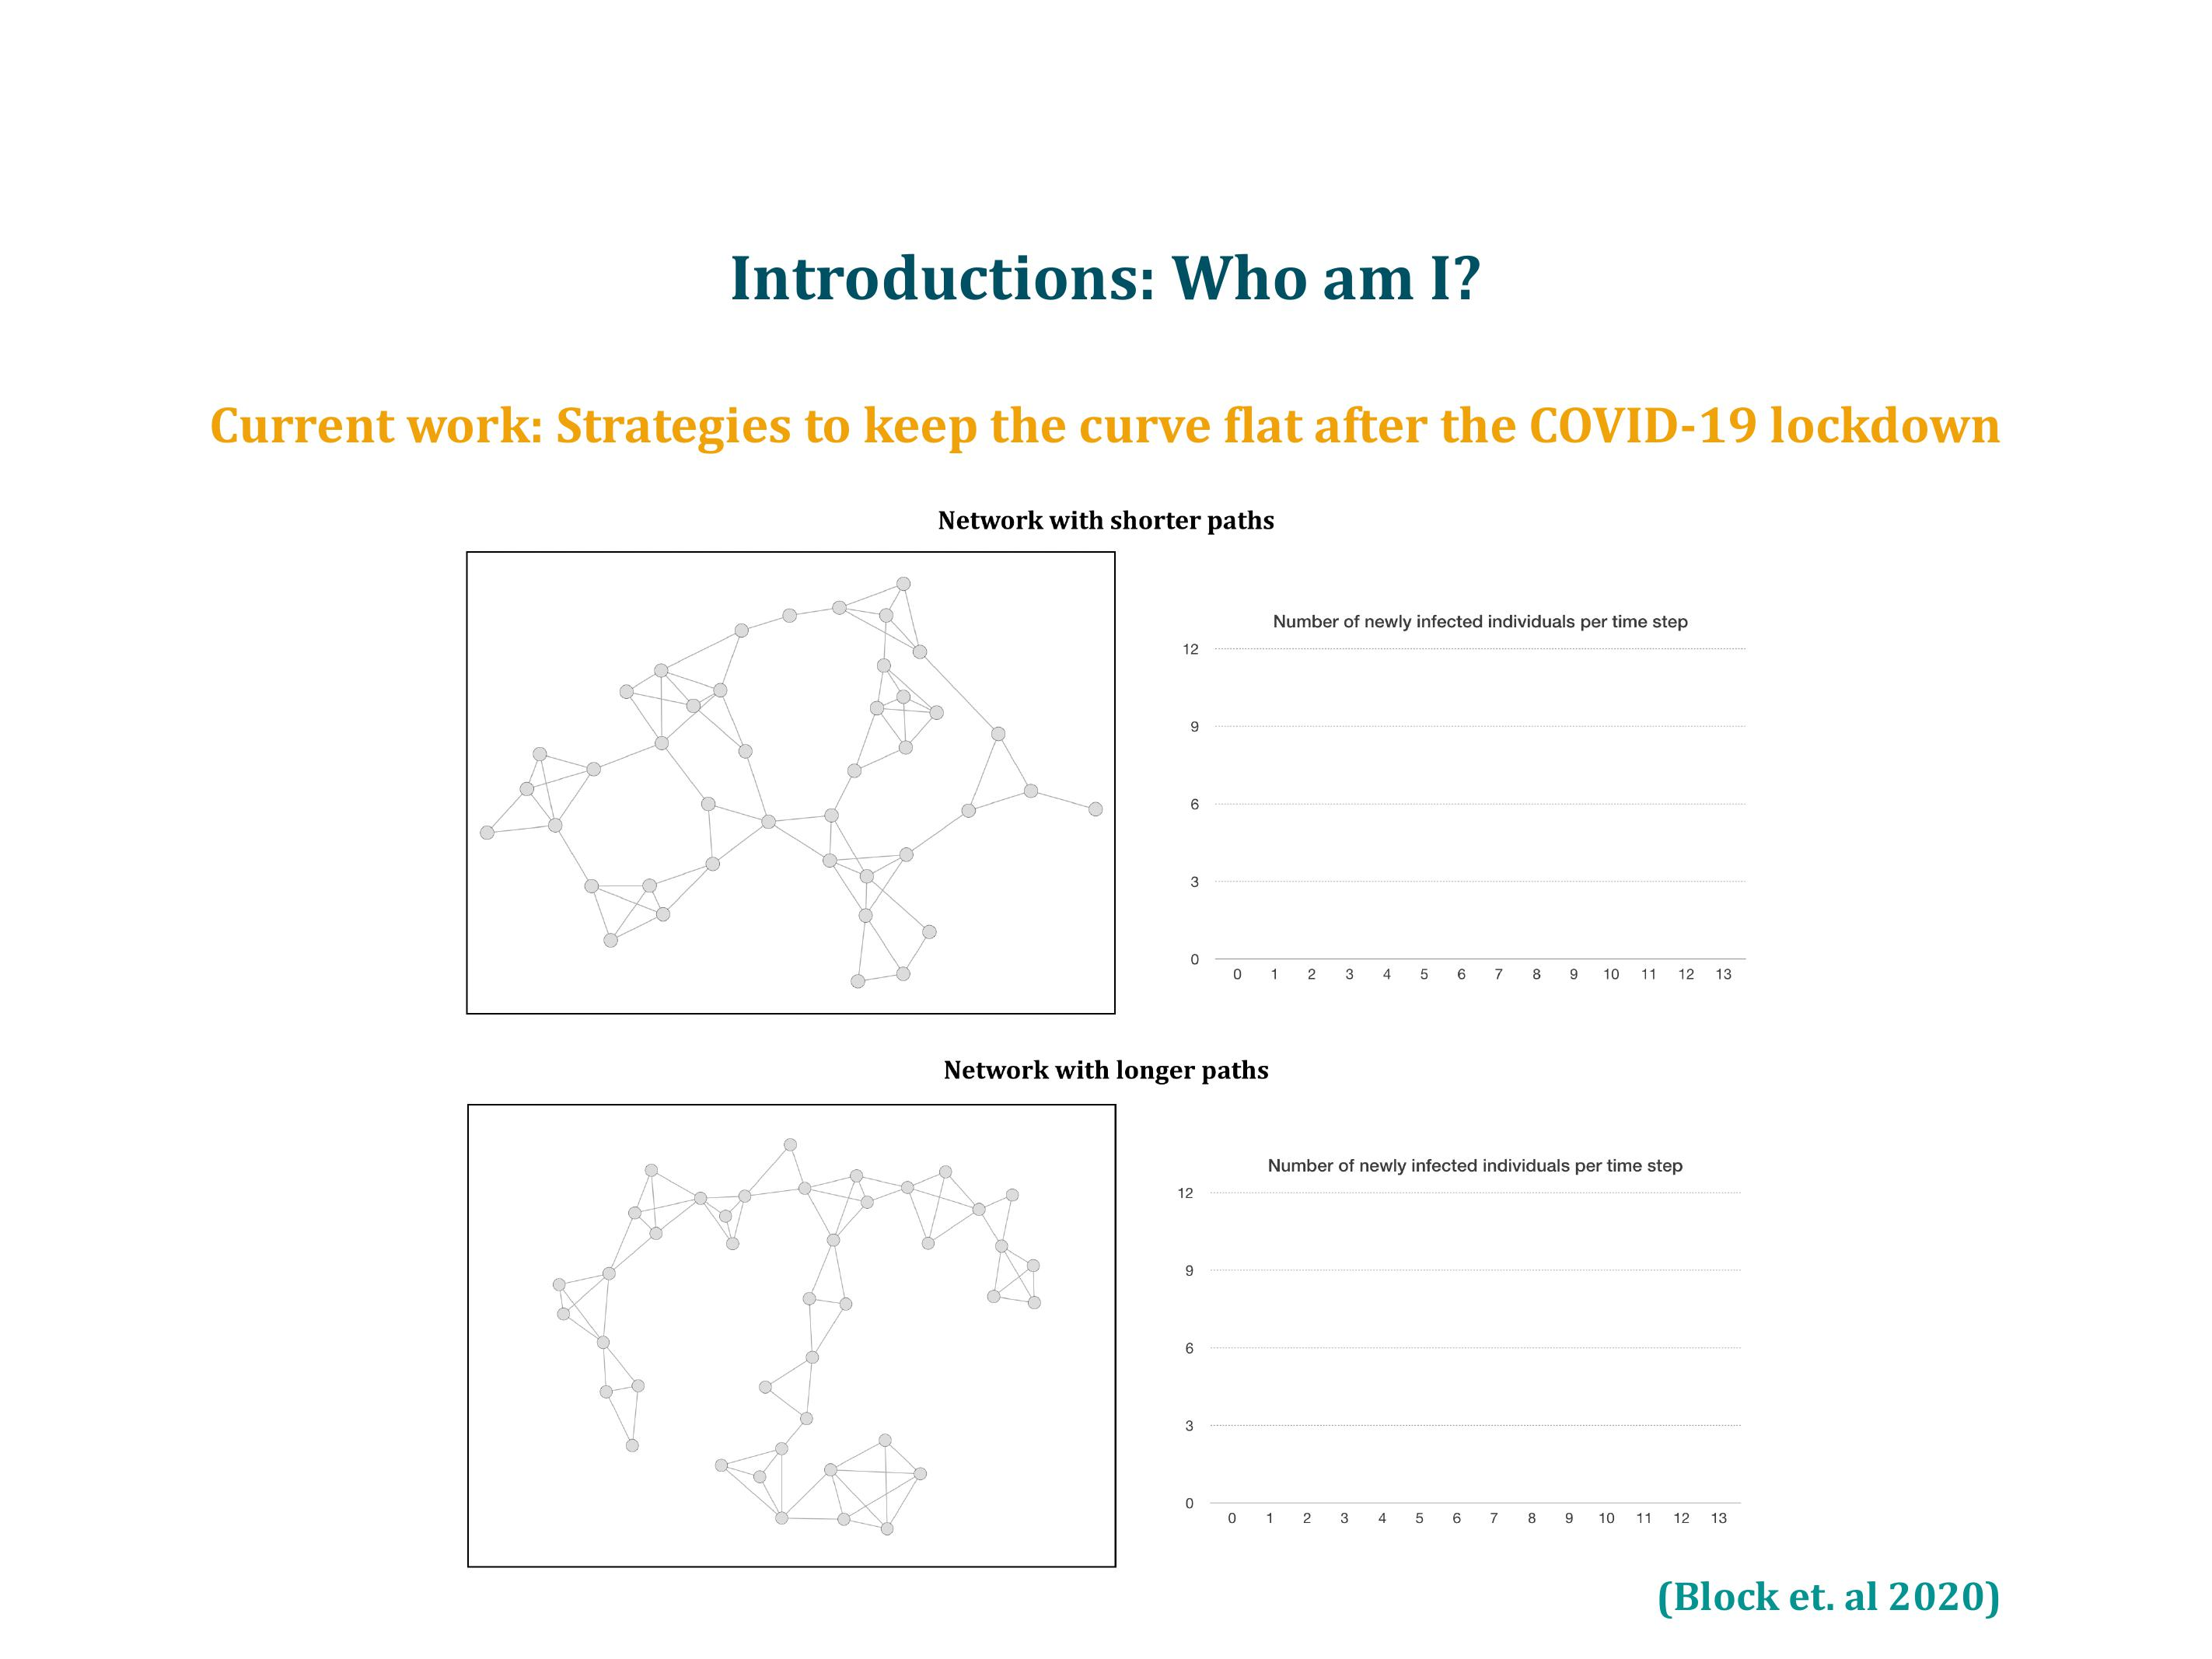Title: (727, 242, 1497, 322)
